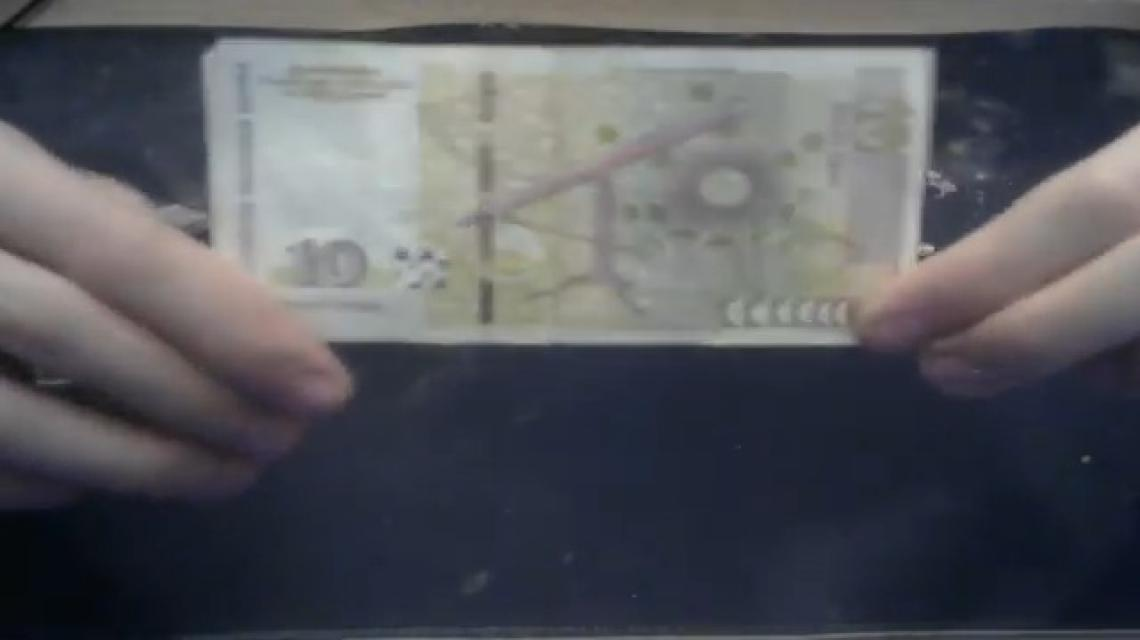10leva: (0, 25, 965, 347)
